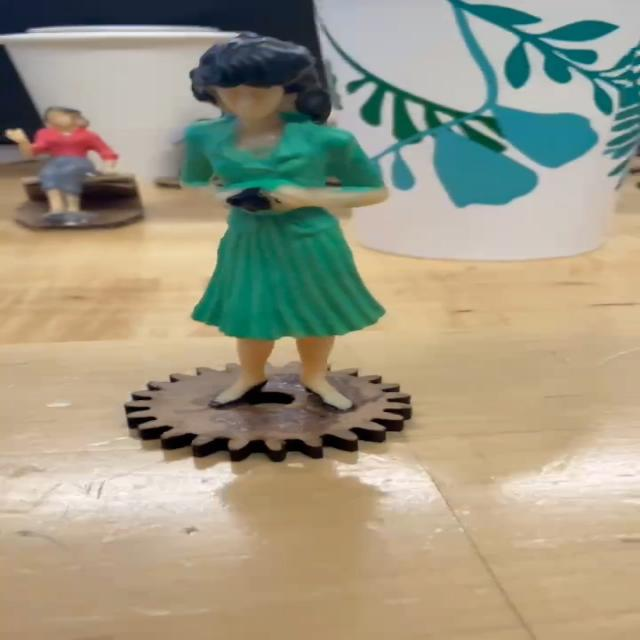Authorized: (129, 35, 440, 388)
